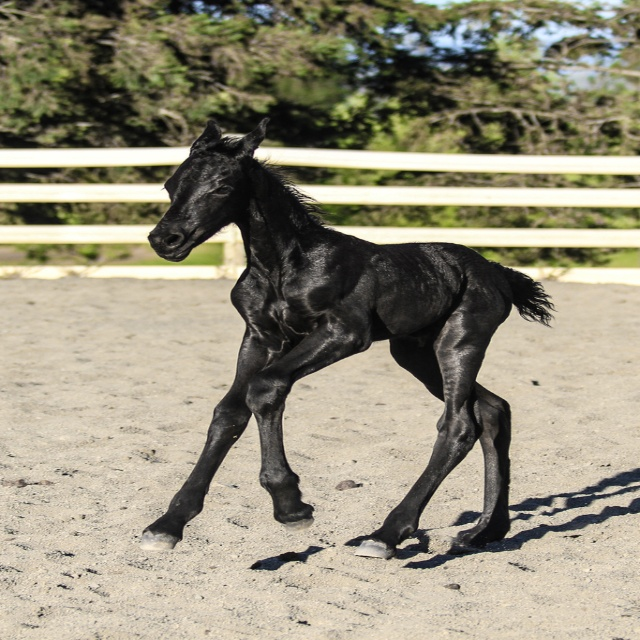Horse: (140, 117, 556, 550)
